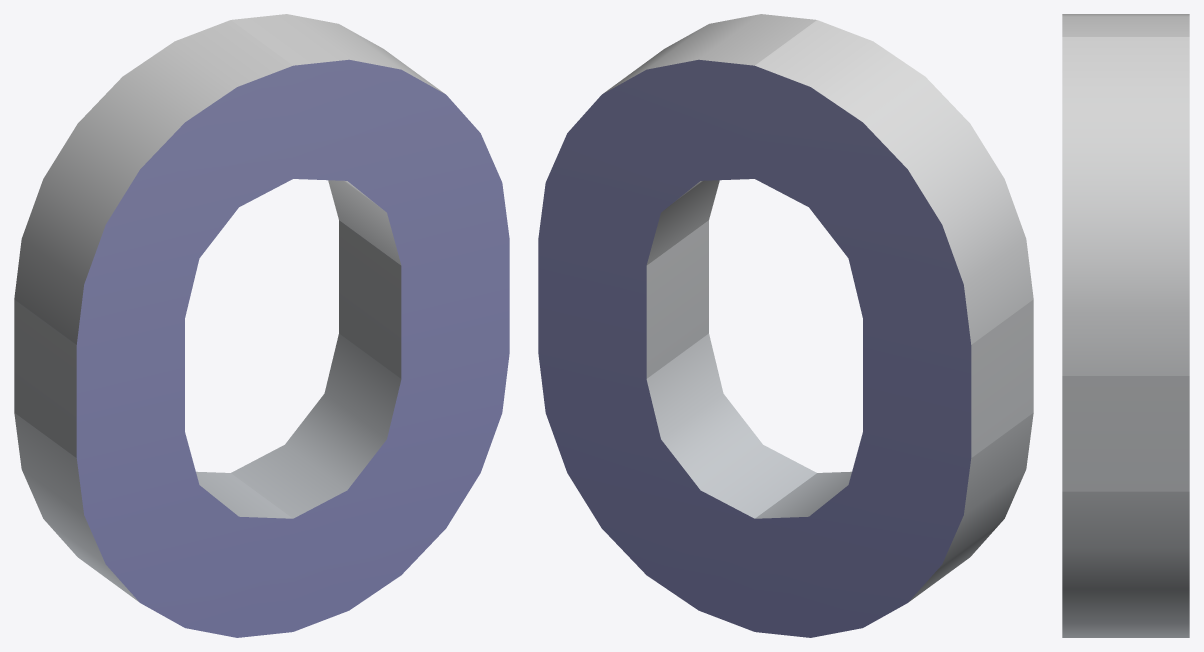
Rendered from letter-o.glb.
The picture shows the model from 3 angles, left to right: view 1: azimuth 30°, elevation 25°; view 2: azimuth 150°, elevation 25°; view 3: azimuth 270°, elevation 25°; orthographic projection. The views are drawn at different scales.
Parts seen in each view (by area): view 1: letter-o; view 2: letter-o; view 3: letter-o.
Part boxes in pixels (x1,y1,x2,y2): letter-o: (14,14,509,637); letter-o: (538,14,1033,637); letter-o: (1062,14,1189,637).
Size of the model in its own units: 0.4 by 0.5 by 0.1.
